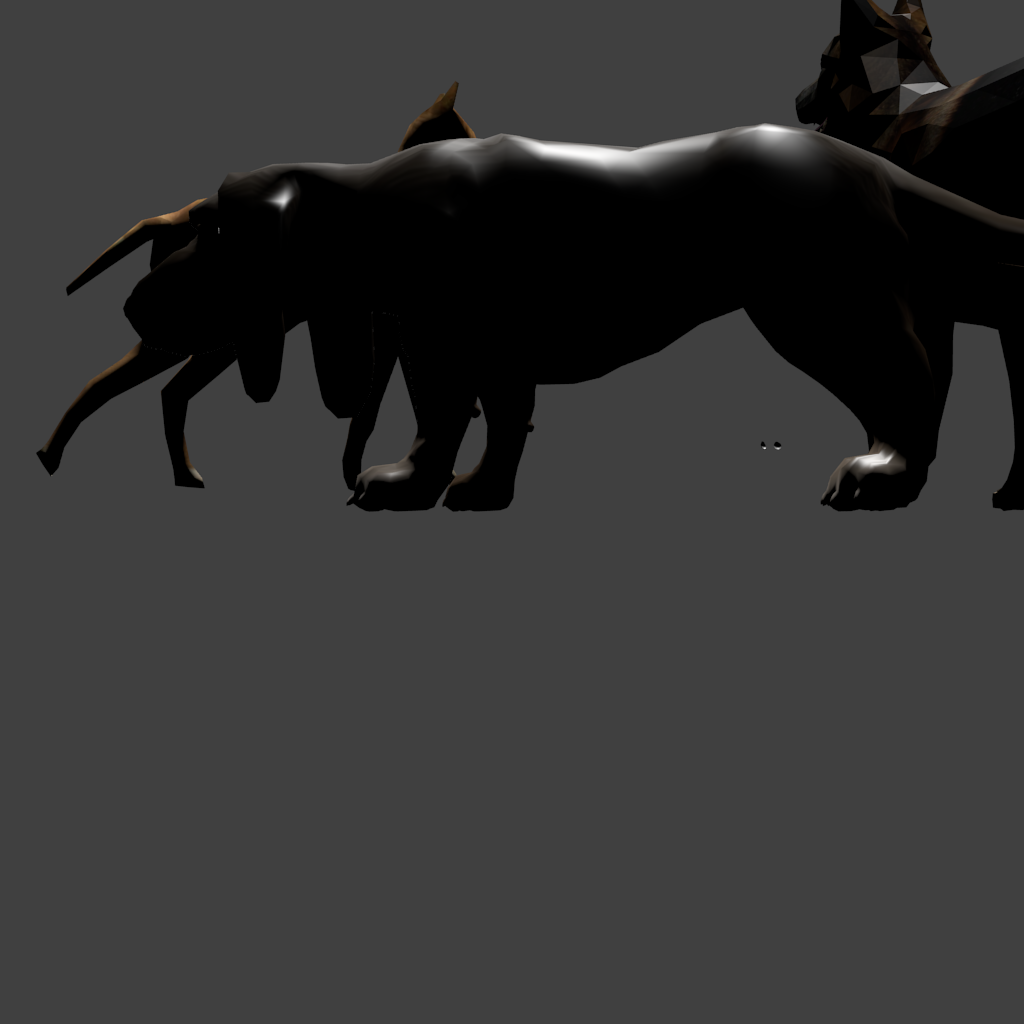Dog: (123, 123, 901, 389), (36, 81, 438, 410)
